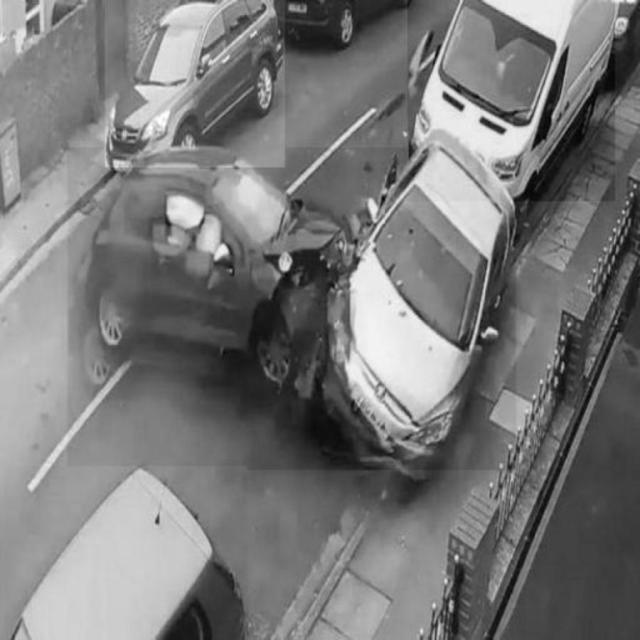accident: (67, 148, 515, 470)
vehicle: (5, 466, 247, 640), (408, 1, 615, 202), (105, 1, 285, 168)
